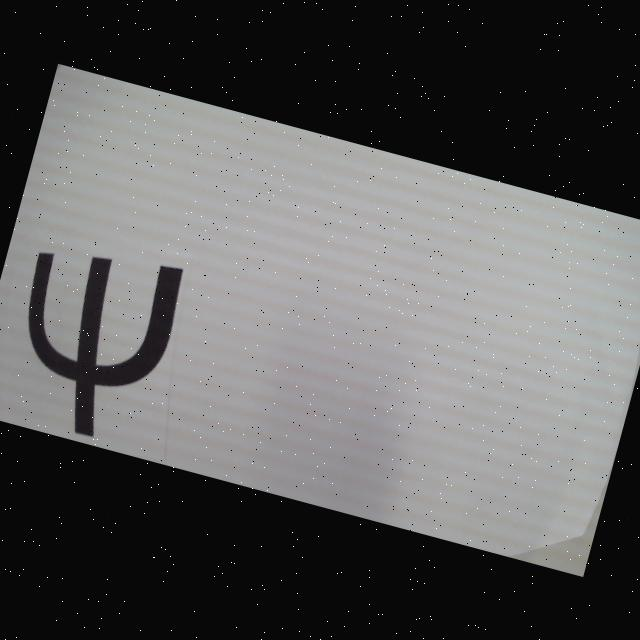PSI: (0, 231, 188, 450)
